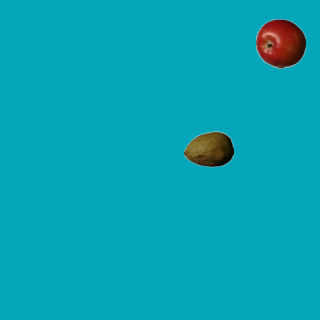Apple Braeburn: (255, 18, 305, 68)
Papaya: (183, 124, 233, 174)
